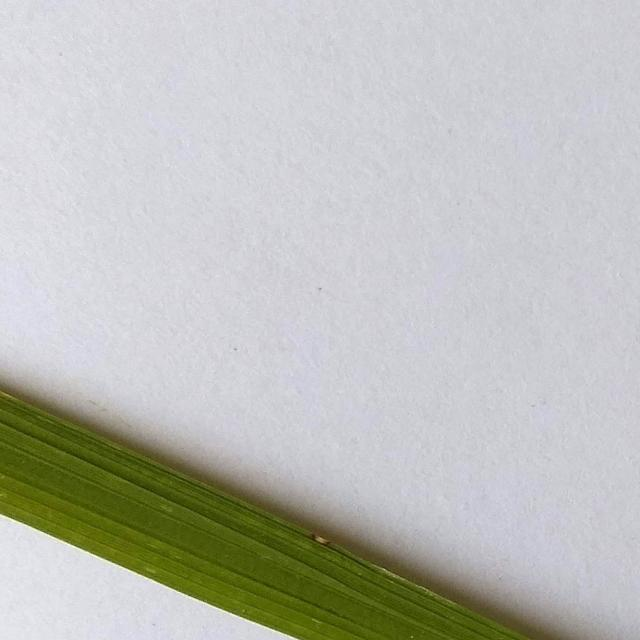Blast: (303, 532, 333, 548)
